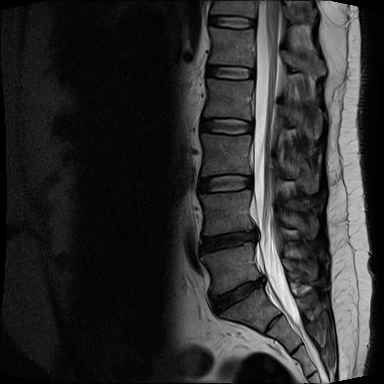Lumbar Disc Bulge (LDB): (204, 270, 273, 319), (194, 222, 267, 262)
Normal IVD: (195, 170, 257, 197), (194, 114, 255, 138), (202, 12, 258, 33), (199, 62, 257, 82)
Spinal Stenosis (SS): (246, 221, 265, 247), (254, 270, 272, 293)
